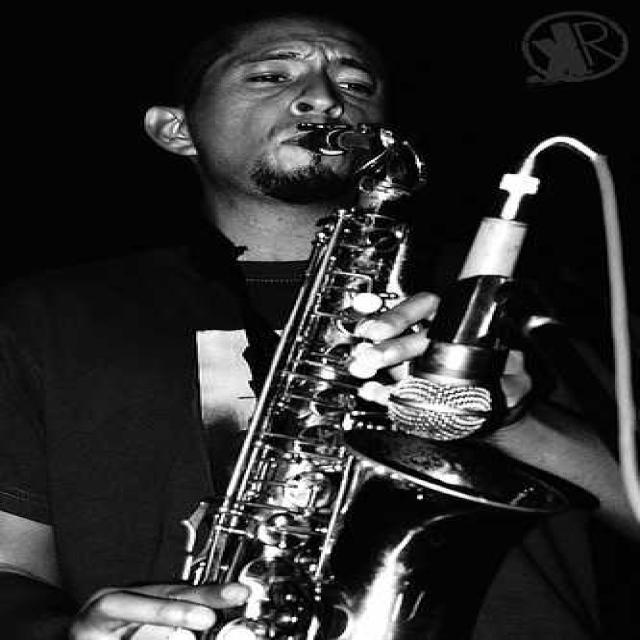microphone: (388, 198, 540, 439)
